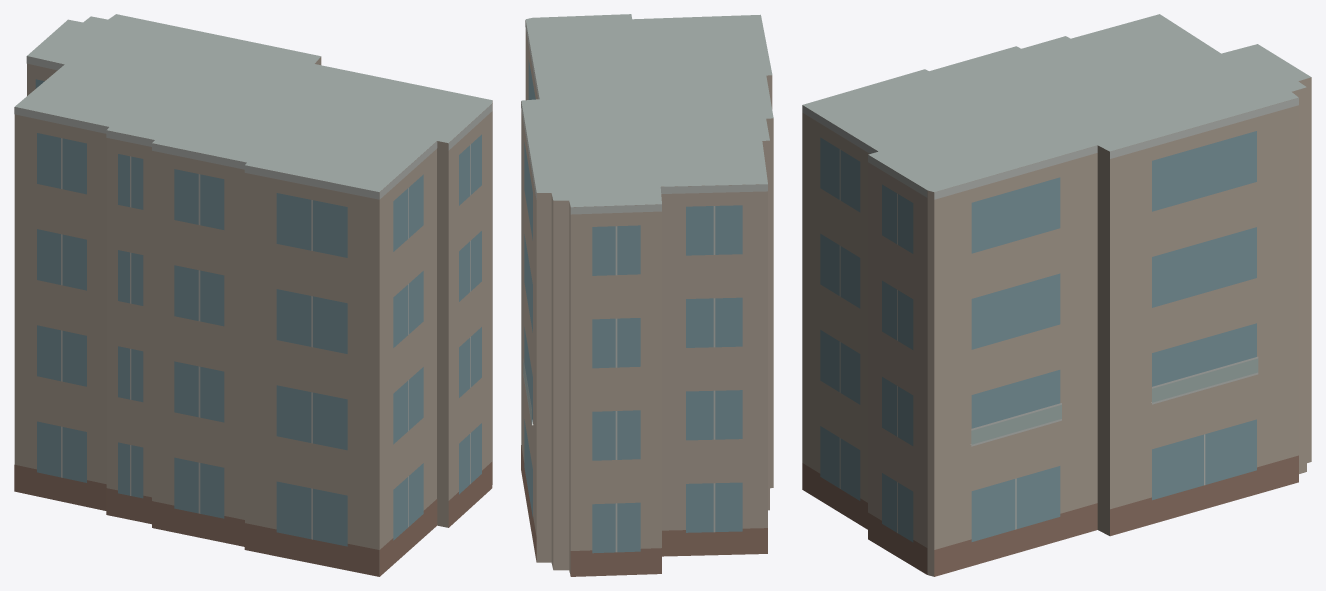
Rendered from survey-upis-32534225.glb.
3 renders of one model, left to right at view 1: azimuth 30°, elevation 25°; view 2: azimuth 150°, elevation 25°; view 3: azimuth 270°, elevation 25°, orthographic. The views are drawn at different scales.
Parts seen in each view (by area): view 1: survey-upis-32534225.tmp; view 2: survey-upis-32534225.tmp; view 3: survey-upis-32534225.tmp.
Boxes of the visible parts, x1,y1,x2,y2 form: survey-upis-32534225.tmp: [14, 14, 492, 576]; survey-upis-32534225.tmp: [521, 14, 773, 576]; survey-upis-32534225.tmp: [802, 14, 1311, 576].
Size of the model in its own units: 12.28 by 12.35 by 14.83.
